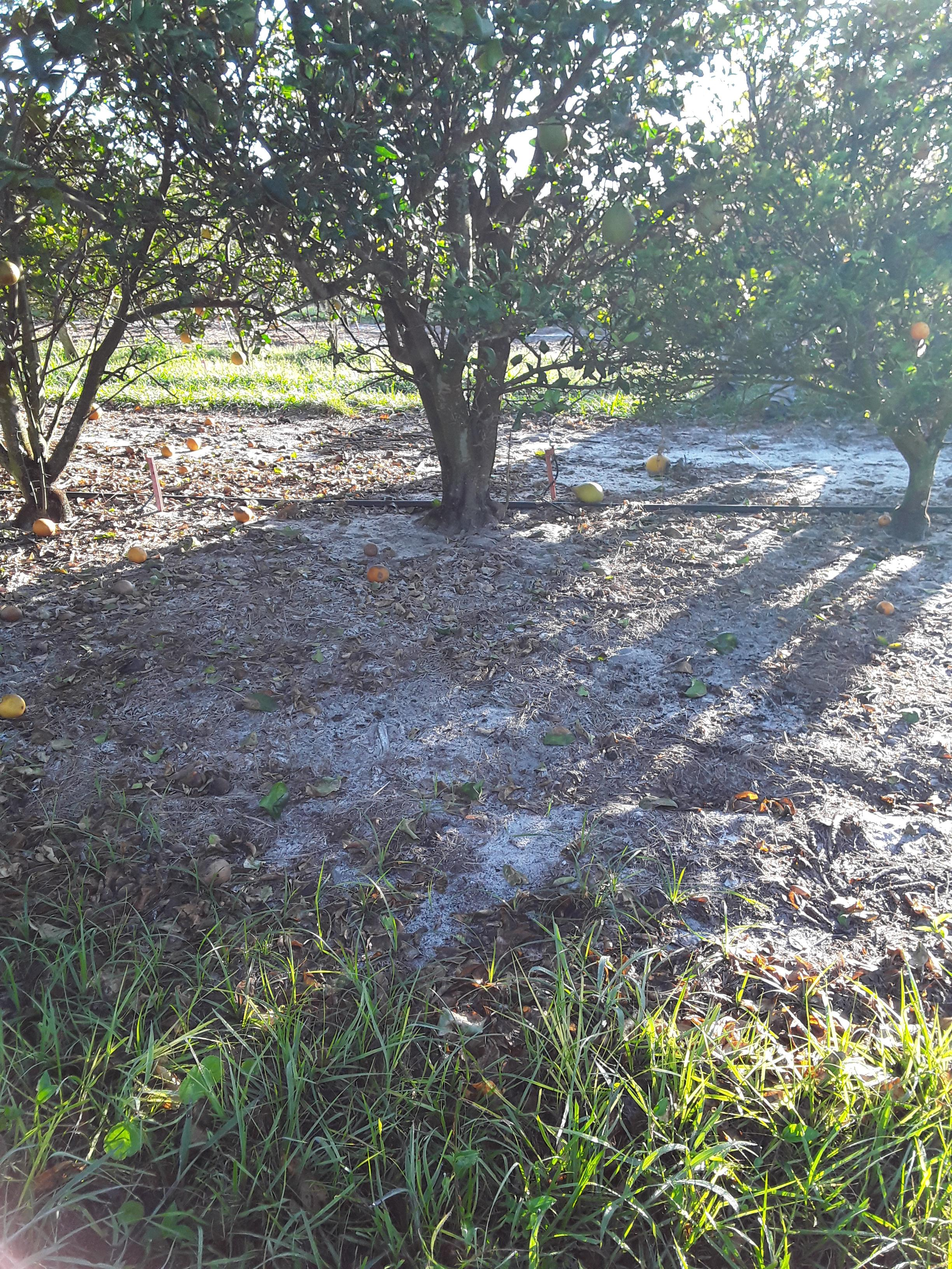fruit_on_ground: (533, 110, 572, 156), (601, 201, 639, 247), (228, 0, 262, 49), (691, 199, 733, 236), (908, 318, 932, 344), (0, 260, 21, 288), (913, 138, 932, 164), (228, 348, 245, 370), (192, 300, 208, 320), (178, 329, 194, 346)
fruit_on_tree: (195, 852, 234, 890), (572, 478, 605, 507), (0, 693, 27, 726), (646, 452, 673, 481), (362, 561, 392, 587), (230, 500, 256, 528), (179, 769, 204, 793), (111, 575, 136, 598), (207, 777, 237, 796), (126, 542, 148, 567), (86, 400, 105, 428), (34, 514, 56, 538), (875, 596, 894, 616), (362, 538, 380, 559), (1, 605, 19, 626), (177, 461, 194, 479), (876, 512, 893, 530), (159, 447, 175, 465), (184, 435, 200, 452), (204, 414, 216, 430), (186, 443, 198, 458), (225, 480, 240, 492), (245, 439, 258, 447), (335, 455, 344, 464)
